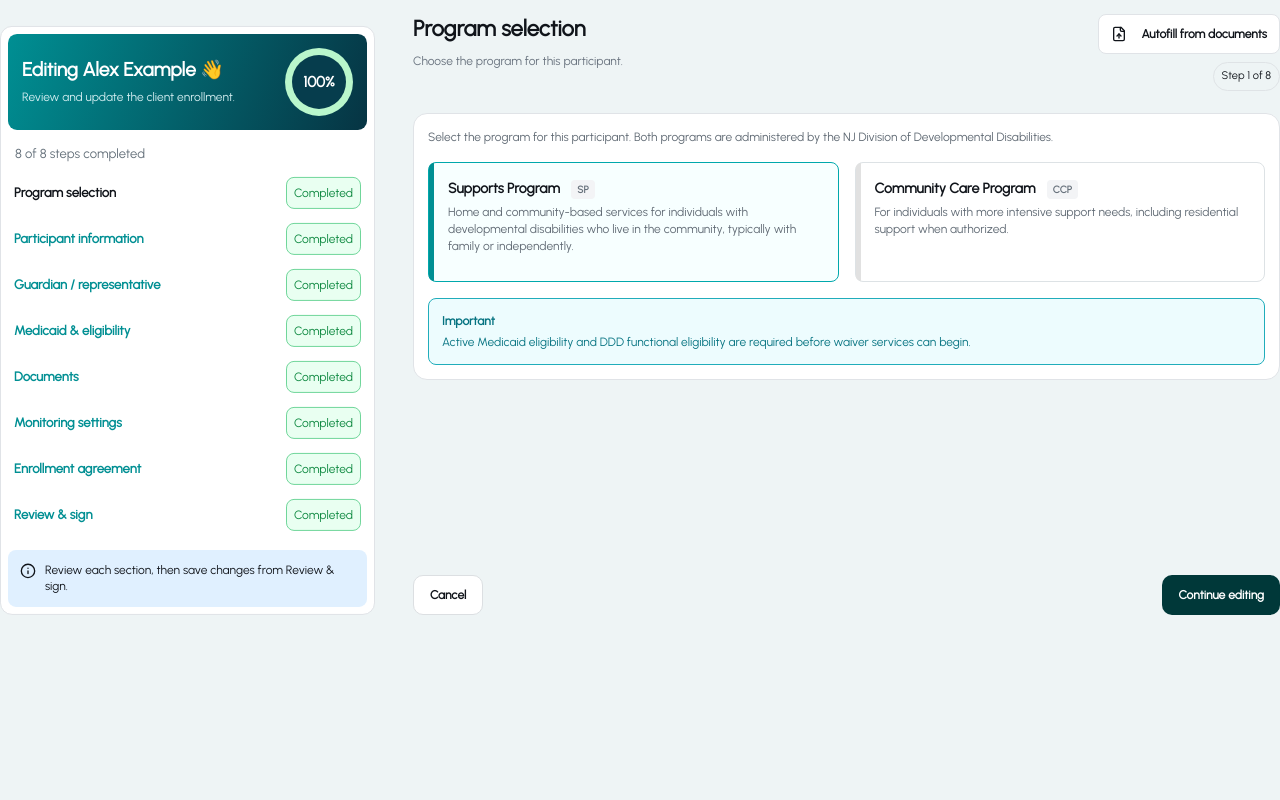
Test case: Documents is optional and continues to monitoring without uploading any files
expect the text "Editing Alex Example" is shown: met, box x1=22 y1=58 x2=196 y2=81
What coordinates should you click on to do the following:
click the button "Documents Completed"
I would click on:
 (46, 376)
Its box is x1=8 y1=353 x2=367 y2=399.
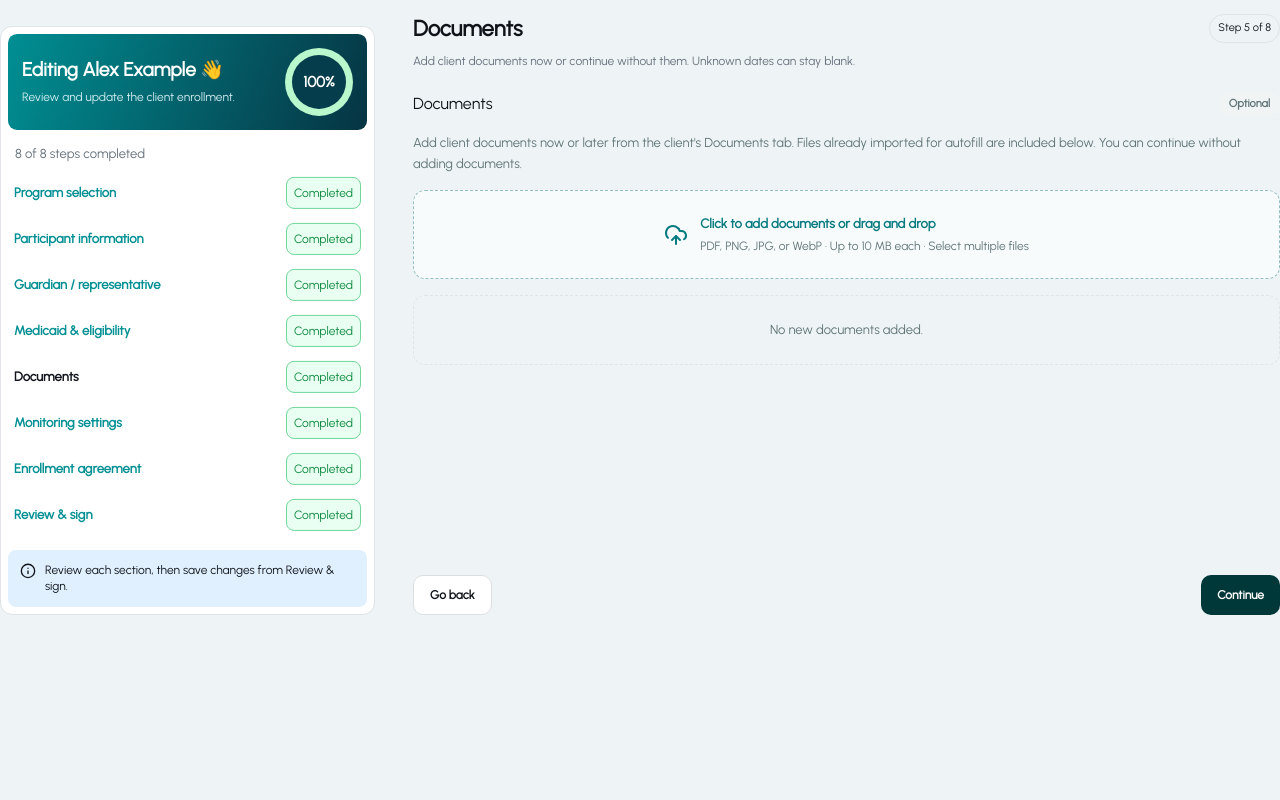
expect the 1st heading "Documents" is shown: met, box x1=413 y1=15 x2=522 y2=42
What coordinates should you click on to do the following:
click the button "Continue"
I would click on:
 (1241, 595)
Its box is x1=1201 y1=575 x2=1279 y2=615.
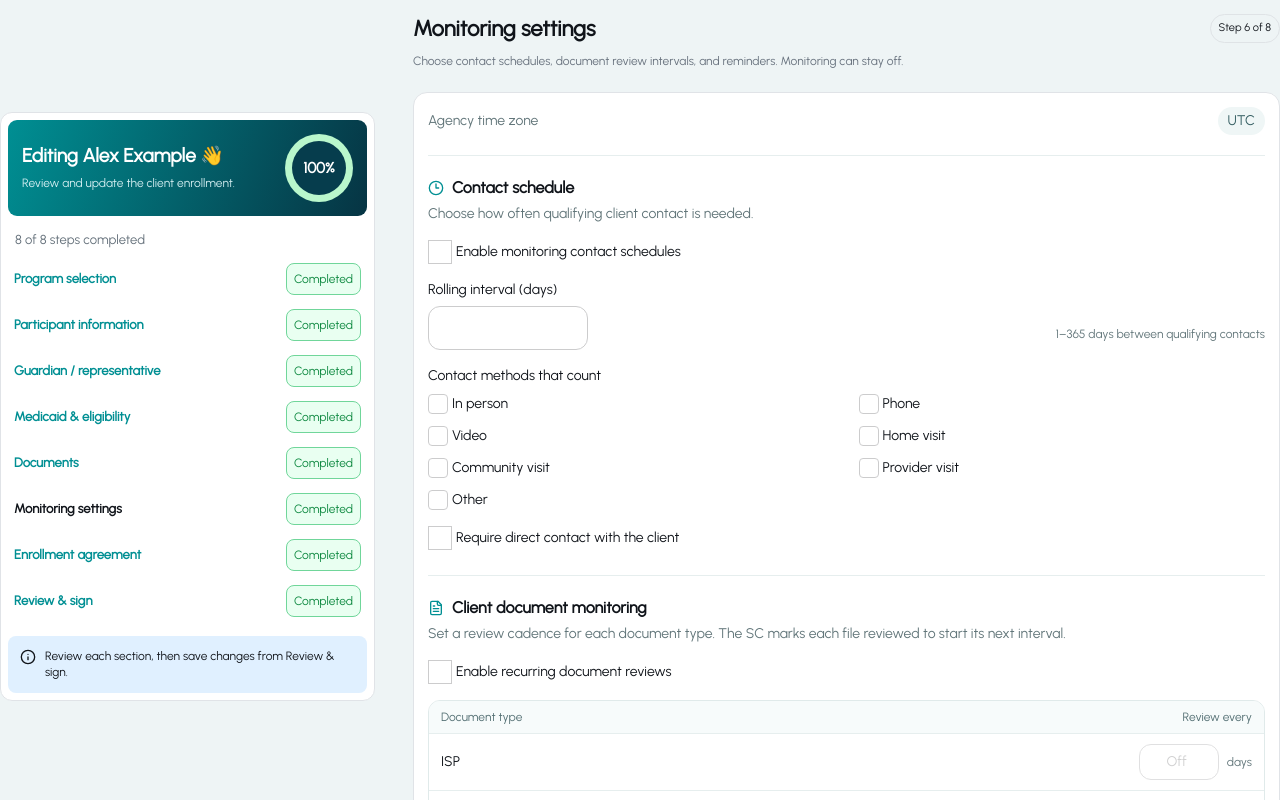
expect the heading "Monitoring settings" is shown: met, box x1=413 y1=15 x2=596 y2=42
